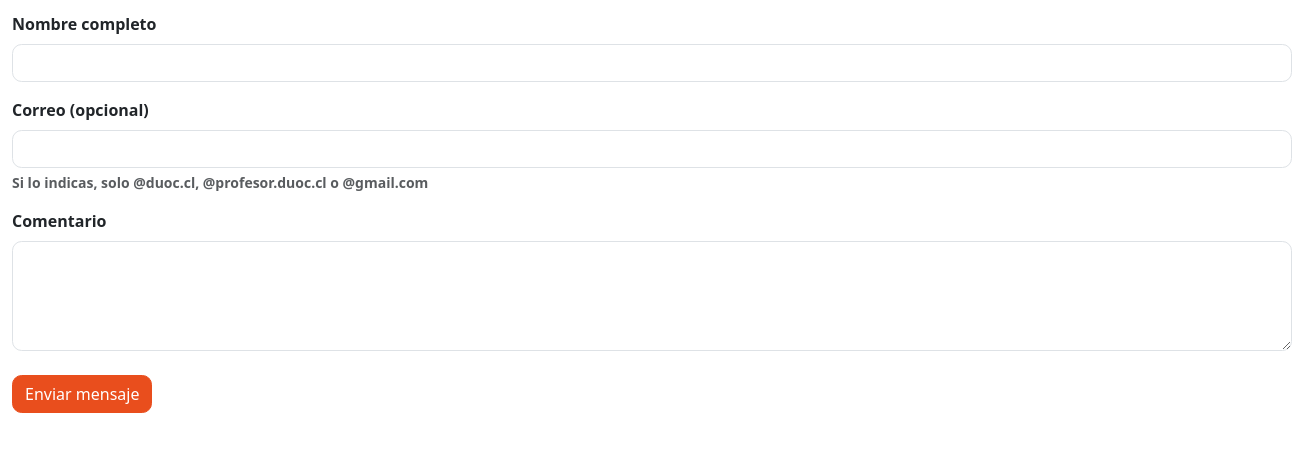
Test: <ContactoForm /> › muestra error de nombre al vaciar el campo después de escribir
Type "A" into the field labelled "Nombre completo" at (652, 63), box [12,44,1292,82]
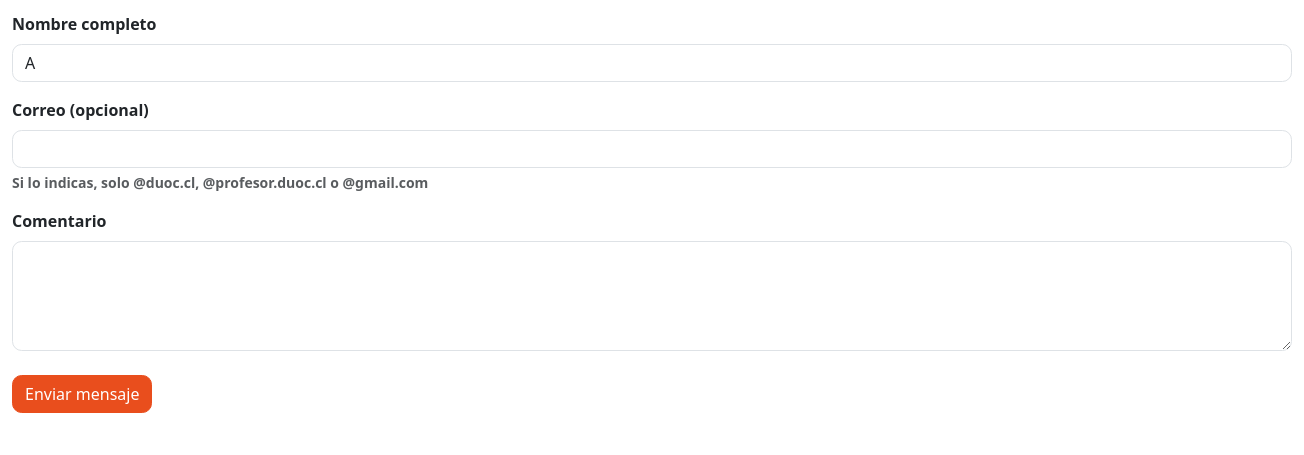
Clear the field labelled "Nombre completo" at (652, 63), box [12,44,1292,82]
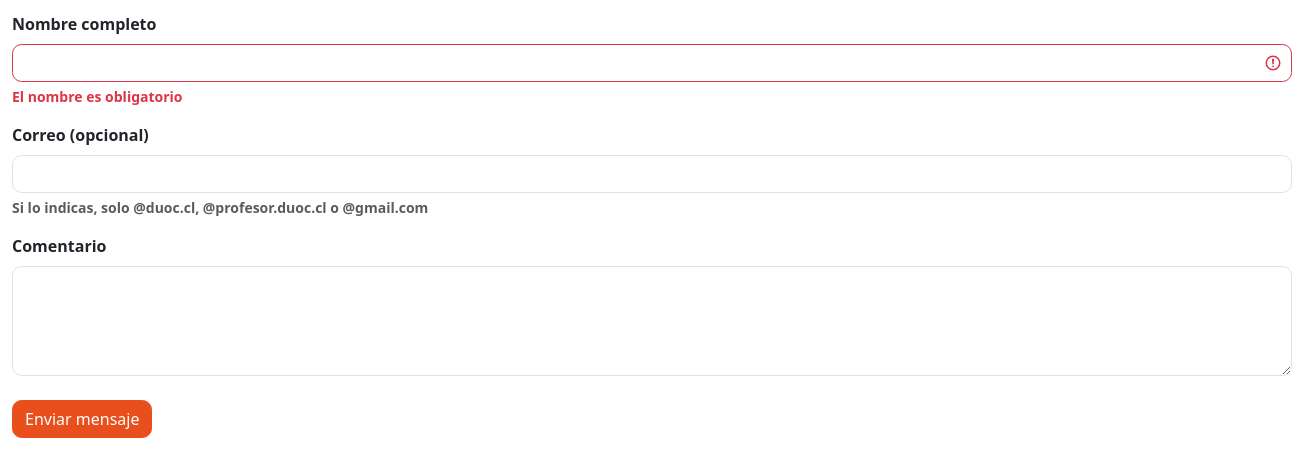
Result: the text "El nombre es obligatorio" is shown at [12,87,182,106]
